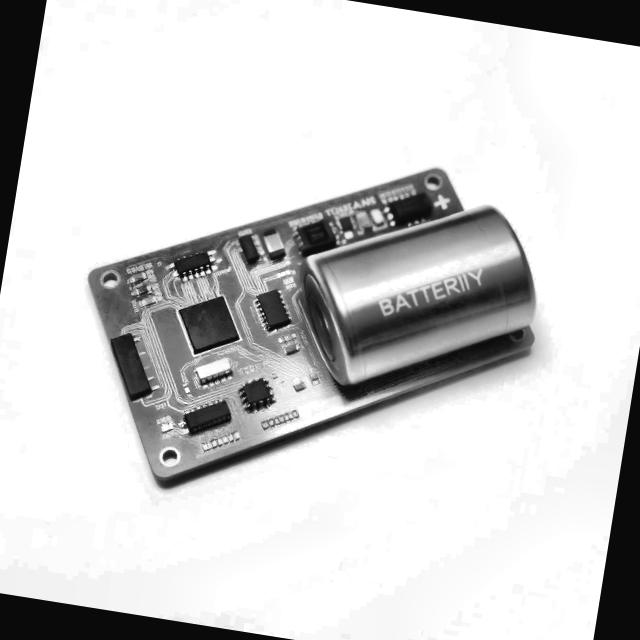Battery: (278, 176, 556, 416)
PCB: (48, 104, 570, 542)
